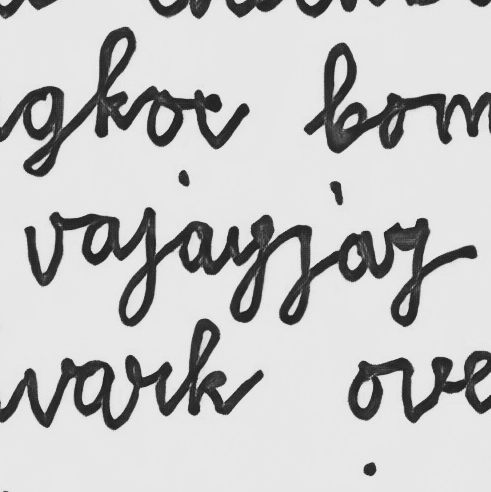a: (334, 226, 376, 285), (175, 216, 214, 277), (80, 211, 121, 267)
j: (114, 204, 162, 329), (275, 223, 317, 327)
v: (22, 209, 70, 289)
y: (381, 215, 433, 329), (222, 219, 268, 326)
